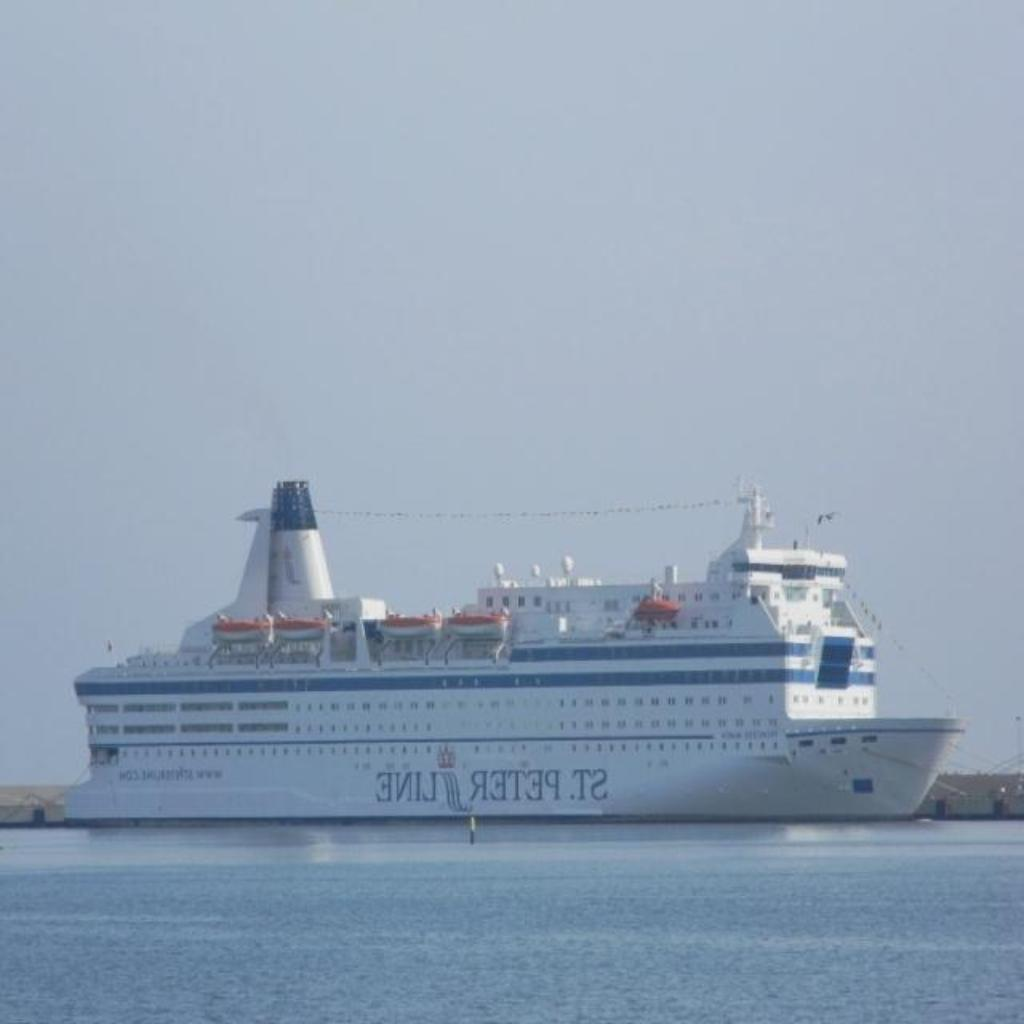PassengerShip: (61, 458, 973, 842)
